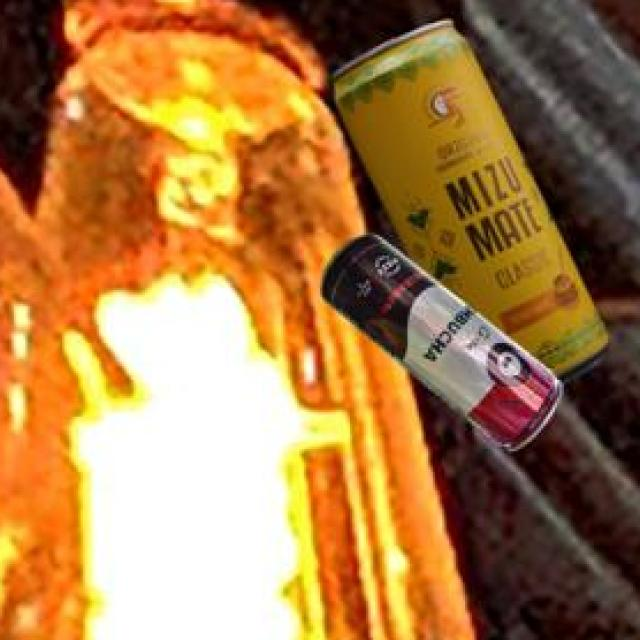logam: (328, 17, 604, 381), (319, 231, 558, 448)
